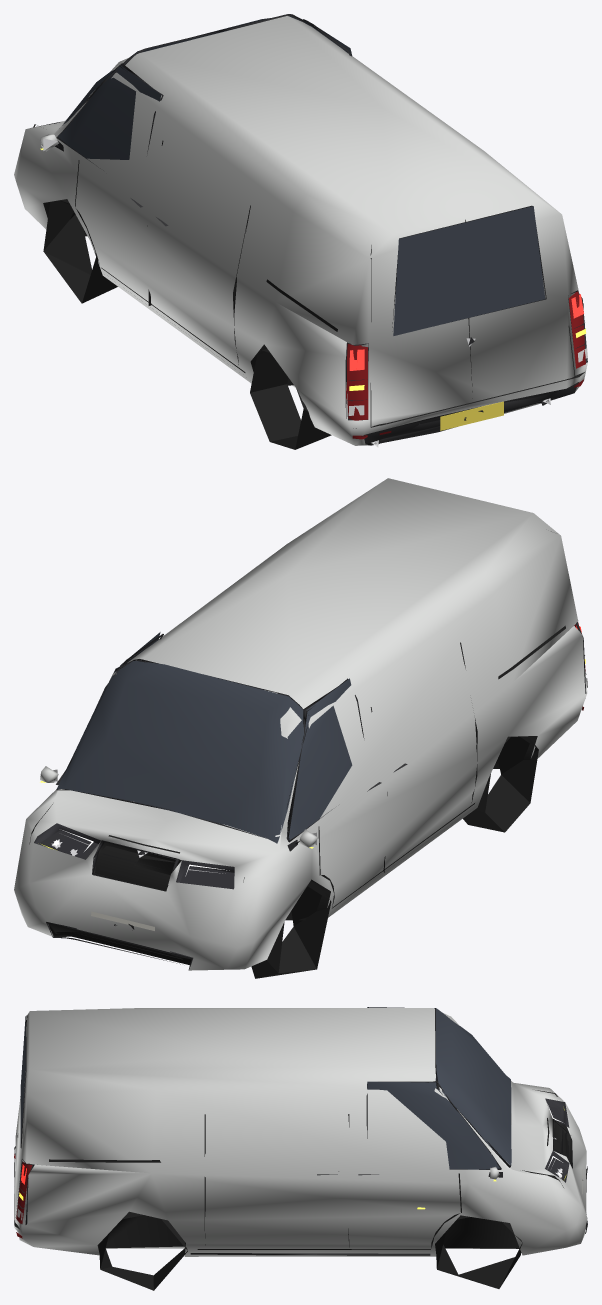
Rendered from civ_van_lod1.glb.
3 views of the same model, one above another, from view 1: azimuth 30°, elevation 25°; view 2: azimuth 150°, elevation 25°; view 3: azimuth 270°, elevation 25° (orthographic). The views are drawn at different scales.
Visible parts, largest first — view 1: civ_van.001; view 2: civ_van.001; view 3: civ_van.001.
Part boxes in pixels (bbox=[...]): civ_van.001: bbox=[14, 14, 587, 449]; civ_van.001: bbox=[14, 478, 587, 978]; civ_van.001: bbox=[14, 1007, 587, 1290].
Size of the model in its own units: 2.26 by 2 by 5.
